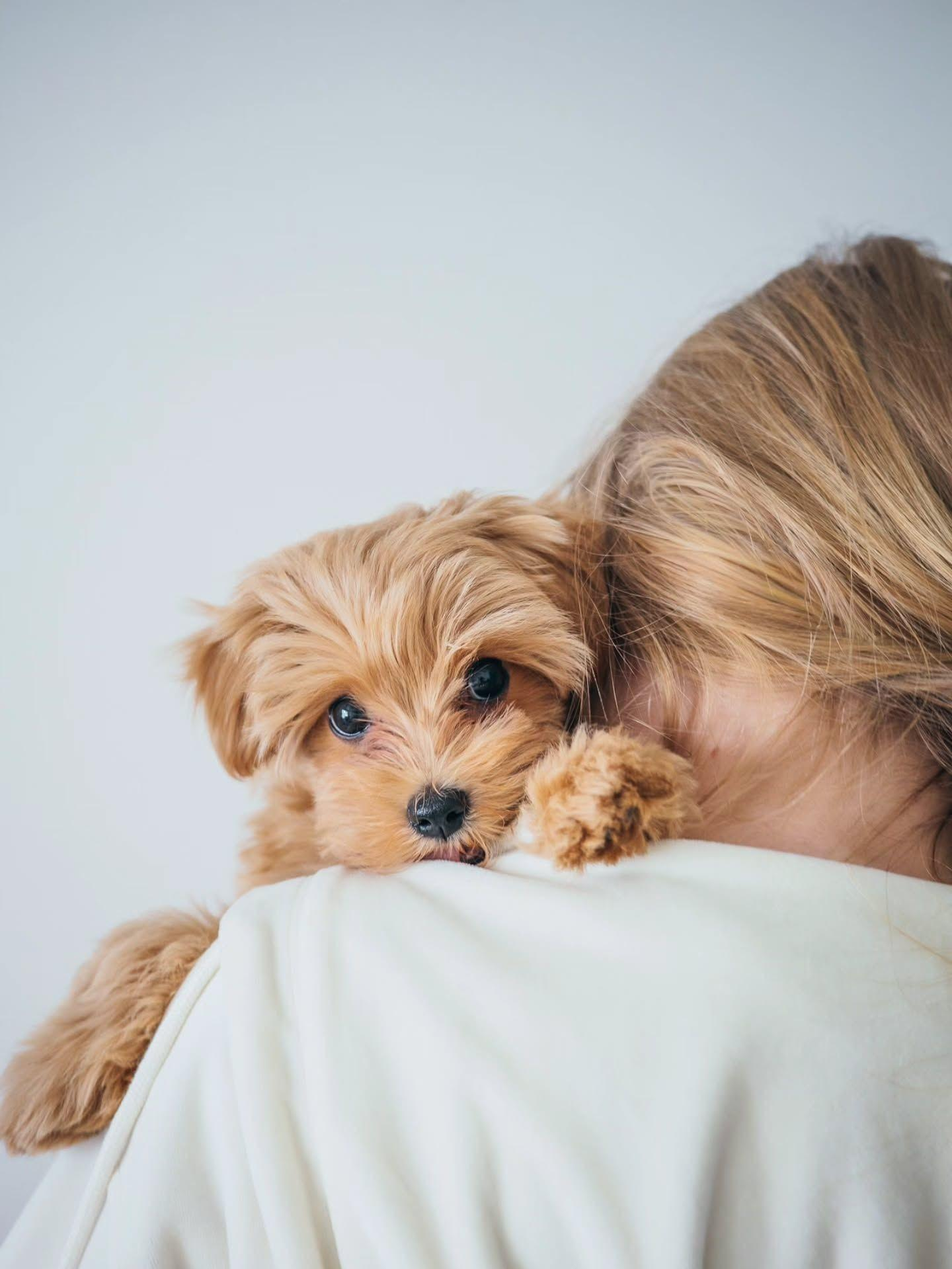non-dog: (3, 227, 952, 1269)
puppy-dog: (0, 491, 691, 1156)
